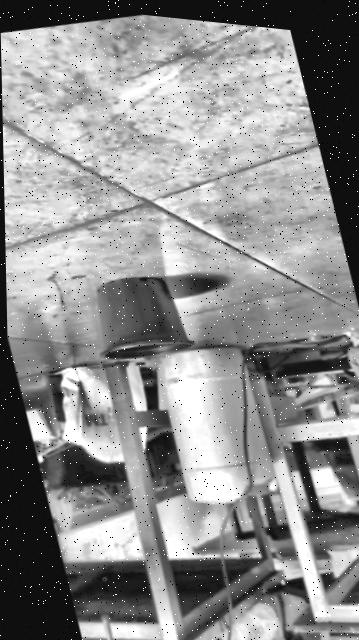pot: (83, 265, 193, 373)
